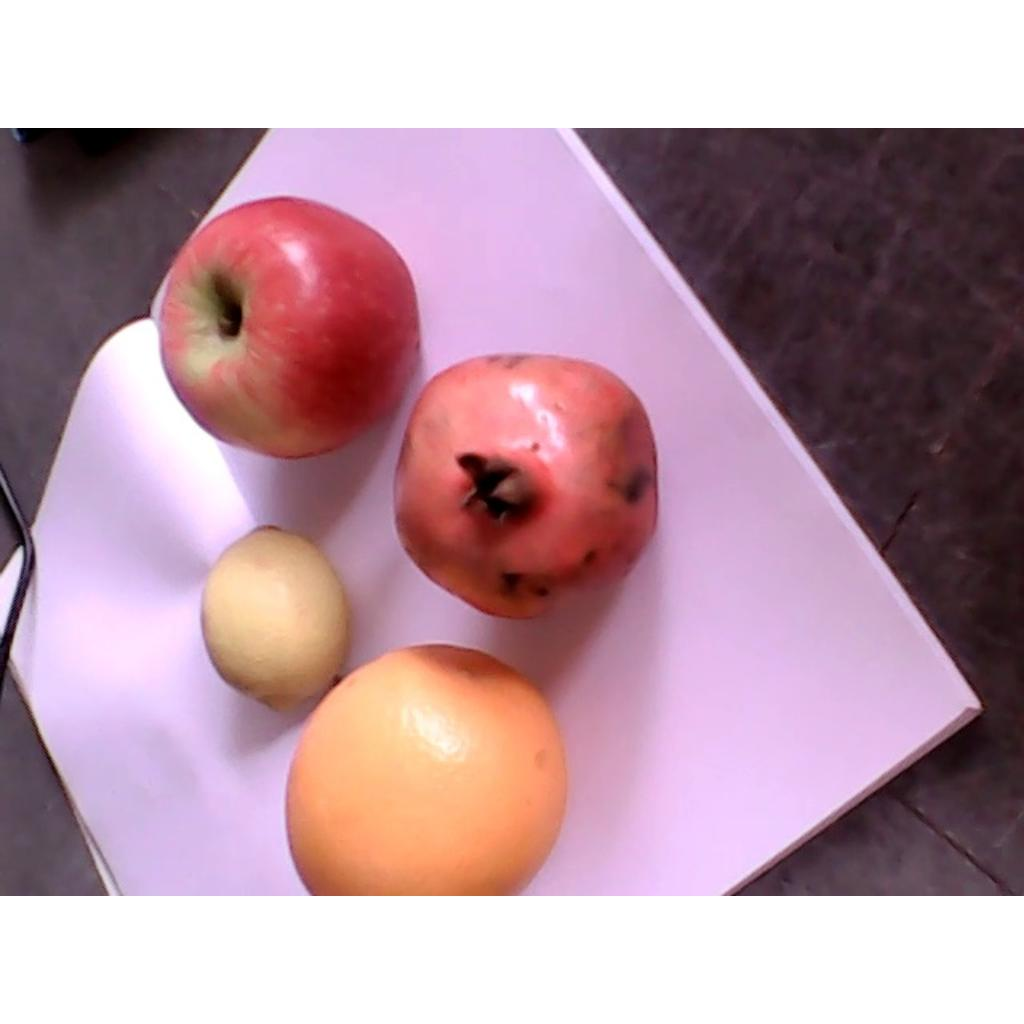apple: (159, 194, 424, 460)
lemon: (198, 522, 353, 716)
orange: (285, 647, 574, 893)
pomegranate: (390, 355, 660, 620)
